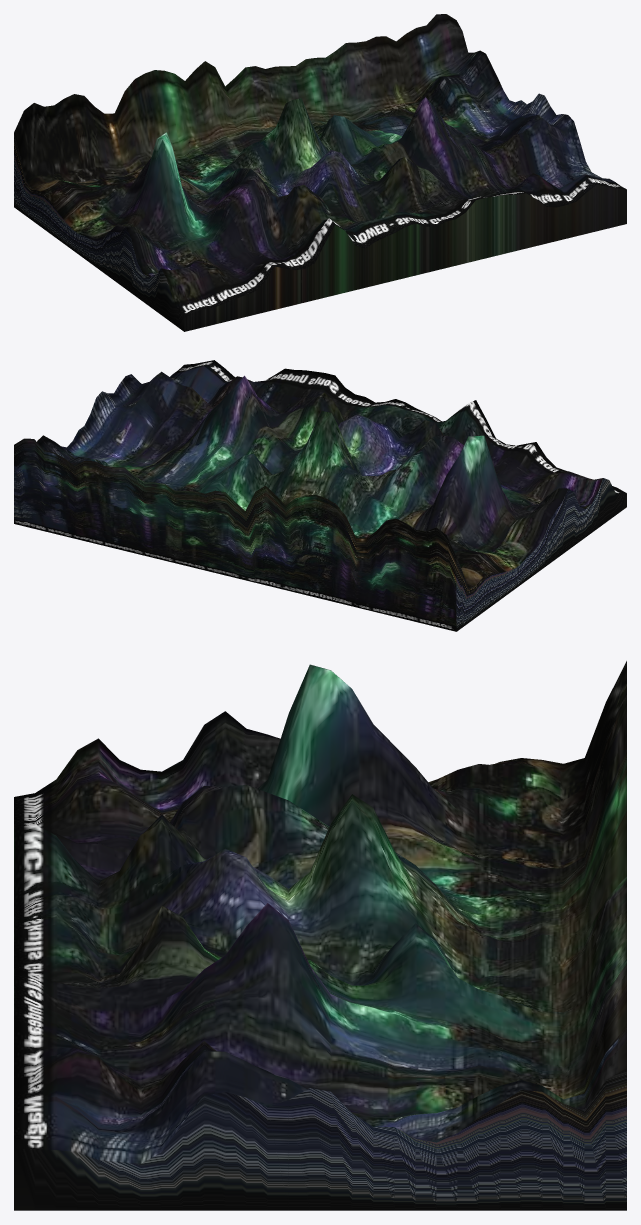
File: TOWER_INT_10_Necromancy_Tower.glb
3 renders of one model, top to bottom at view 1: azimuth 30°, elevation 25°; view 2: azimuth 150°, elevation 25°; view 3: azimuth 270°, elevation 25°, orthographic. The views are drawn at different scales.
Visible parts, largest first — view 1: TOWER_INT_10_Necromancy_Tower; view 2: TOWER_INT_10_Necromancy_Tower; view 3: TOWER_INT_10_Necromancy_Tower.
Part boxes in pixels (x1=…): TOWER_INT_10_Necromancy_Tower: x1=14, y1=14, x2=626, y2=331; TOWER_INT_10_Necromancy_Tower: x1=14, y1=360, x2=626, y2=631; TOWER_INT_10_Necromancy_Tower: x1=14, y1=661, x2=626, y2=1210.
Size of the model in its own units: 2 by 0.51 by 1.33.
Materials: 1 (1 with a texture image).
